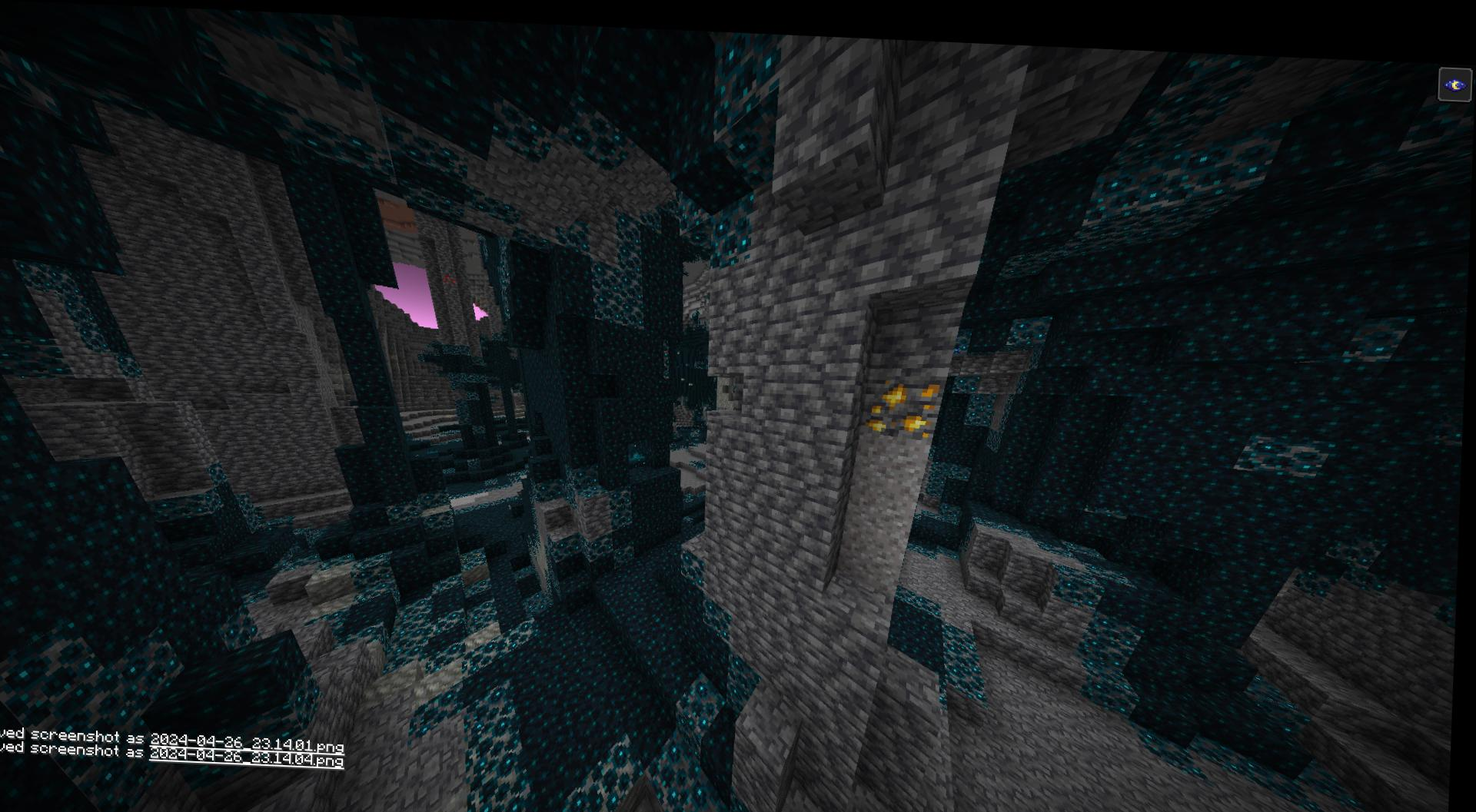gold ore: (863, 364, 941, 428)
redstone ore: (437, 266, 466, 288)
